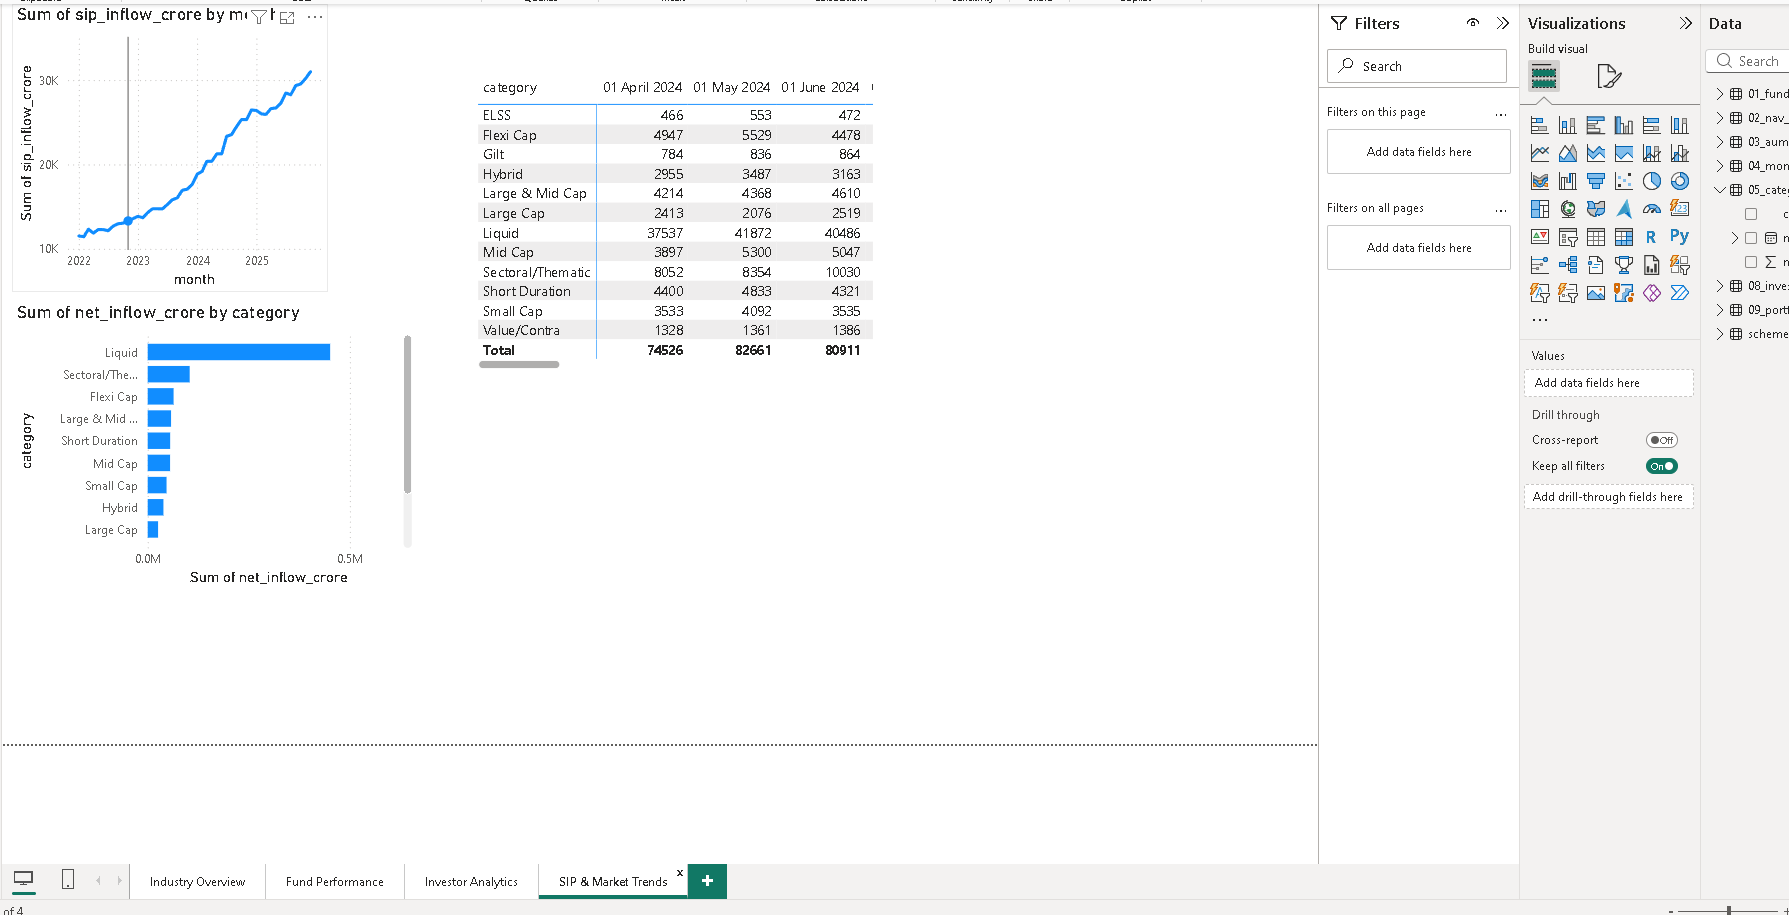

This screenshot's page, from the dashboard's own definition file:
{"tool":"powerbi","page":{"name":"SIP & Market Trends","canvas":[1280,720],"ordinal":3},"visuals":[{"type":"lineChart","fields":{"Y":["Sum(04_monthly_sip_inflows.sip_inflow_crore)"],"Category":["04_monthly_sip_inflows.month"]},"box":[9.7,0,307.4,280.1],"z":0},{"type":"clusteredBarChart","fields":{"Category":["05_category_inflows.category"],"Y":["Sum(05_category_inflows.net_inflow_crore)"]},"box":[9.7,289.8,393.9,280.1],"z":1000},{"type":"pivotTable","fields":{"Rows":["05_category_inflows.category"],"Columns":["05_category_inflows.month"],"Values":["Sum(05_category_inflows.net_inflow_crore)"]},"box":[458.1,65.2,393.9,294.7],"z":2000}]}

Visuals, with their boxes on the page's 1280x720 design canvas (x1, y1, x2, y2). These are canvas units, not pixel positions in the 1789x915 screenshot, which may show the page scaled, cropped or inside an application window:
lineChart - Sum(04_monthly_sip_inflows.sip_inflow_crore) x 04_monthly_sip_inflows.month: left=10, top=0, right=317, bottom=280
clusteredBarChart - 05_category_inflows.category x Sum(05_category_inflows.net_inflow_crore): left=10, top=290, right=404, bottom=570
pivotTable - 05_category_inflows.category x 05_category_inflows.month: left=458, top=65, right=852, bottom=360
